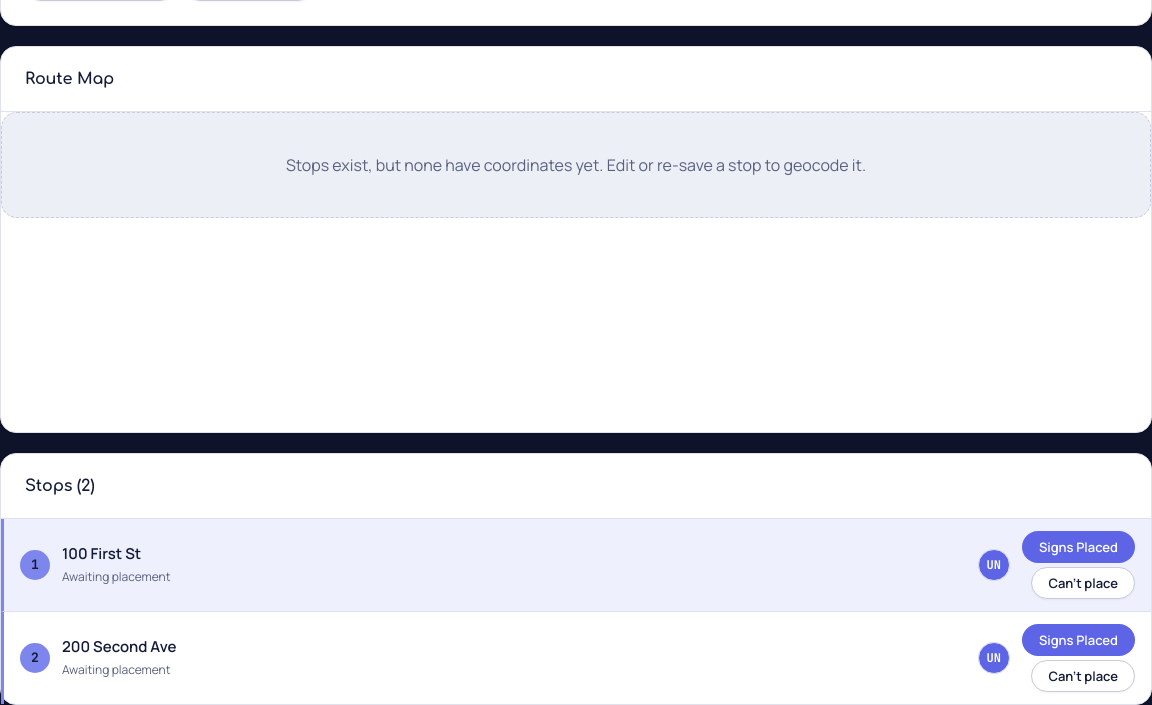
Scenario: Administrator Stop actions on the Route detail page › reloads and shows the error when the Stop saved but its audit entry did not
(page scrolled)
Click the button "Signs Placed" in the row of "100 First St": (1078, 546) [1022,530,1135,562]
(page scrolled)
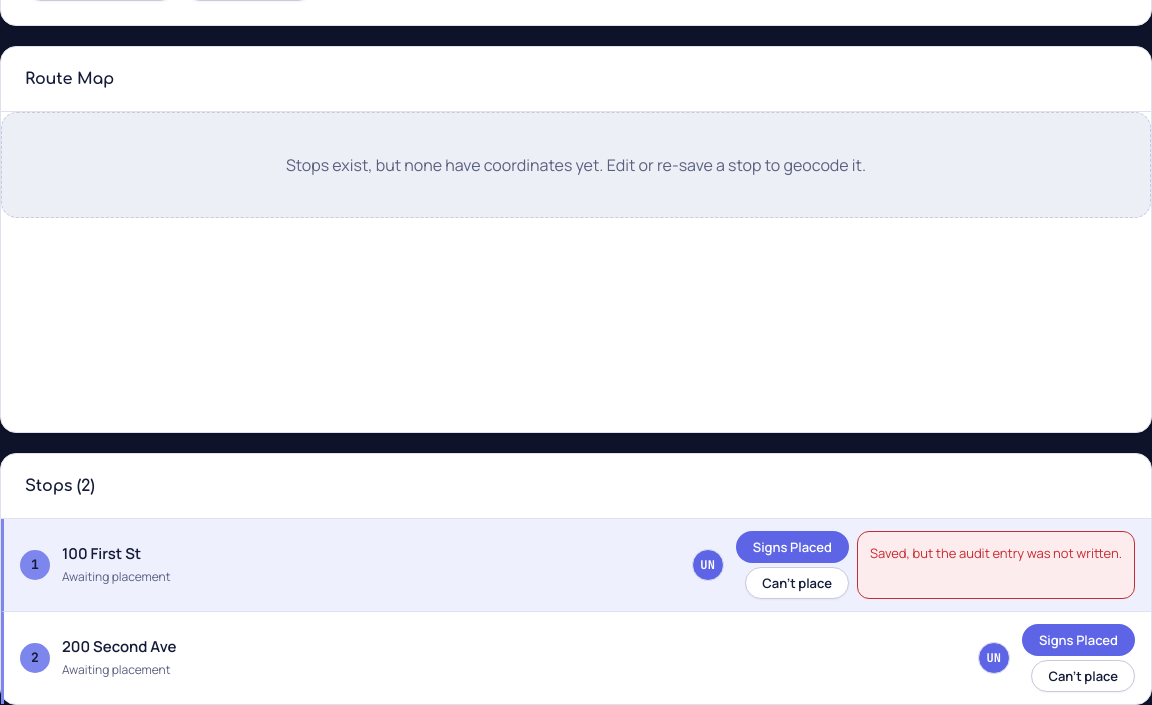
Check: the message shows "audit entry was not written", box [870,544,1122,562]
